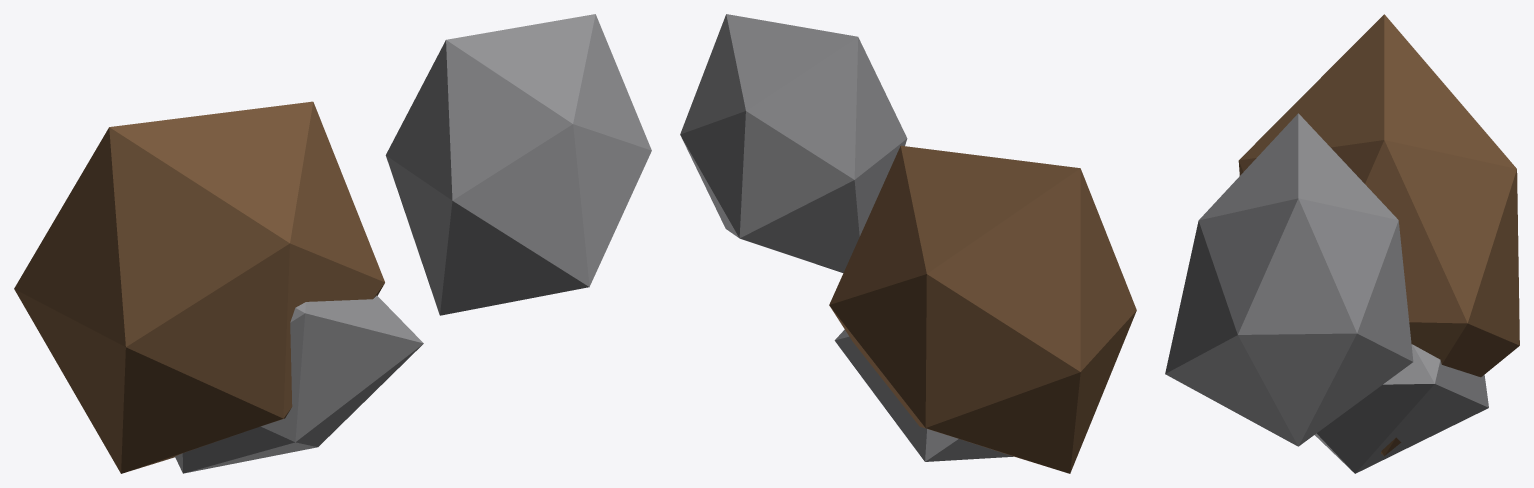
File: frame_4.glb
3 views of the same model, side by side, from view 1: azimuth 30°, elevation 25°; view 2: azimuth 150°, elevation 25°; view 3: azimuth 270°, elevation 25° (orthographic). The views are drawn at different scales.
Parts seen in each view (by area): view 1: effect_diesel_smoke_frame_4; view 2: effect_diesel_smoke_frame_4; view 3: effect_diesel_smoke_frame_4.
Part boxes in pixels (left/top/right/bottom): effect_diesel_smoke_frame_4: left=14, top=14, right=651, bottom=473; effect_diesel_smoke_frame_4: left=680, top=14, right=1136, bottom=473; effect_diesel_smoke_frame_4: left=1165, top=14, right=1519, bottom=473.
Bounding box in the file's own units: 3.32 × 2.47 × 1.94.
